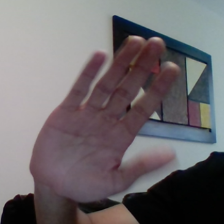left: (22, 20, 180, 201)
